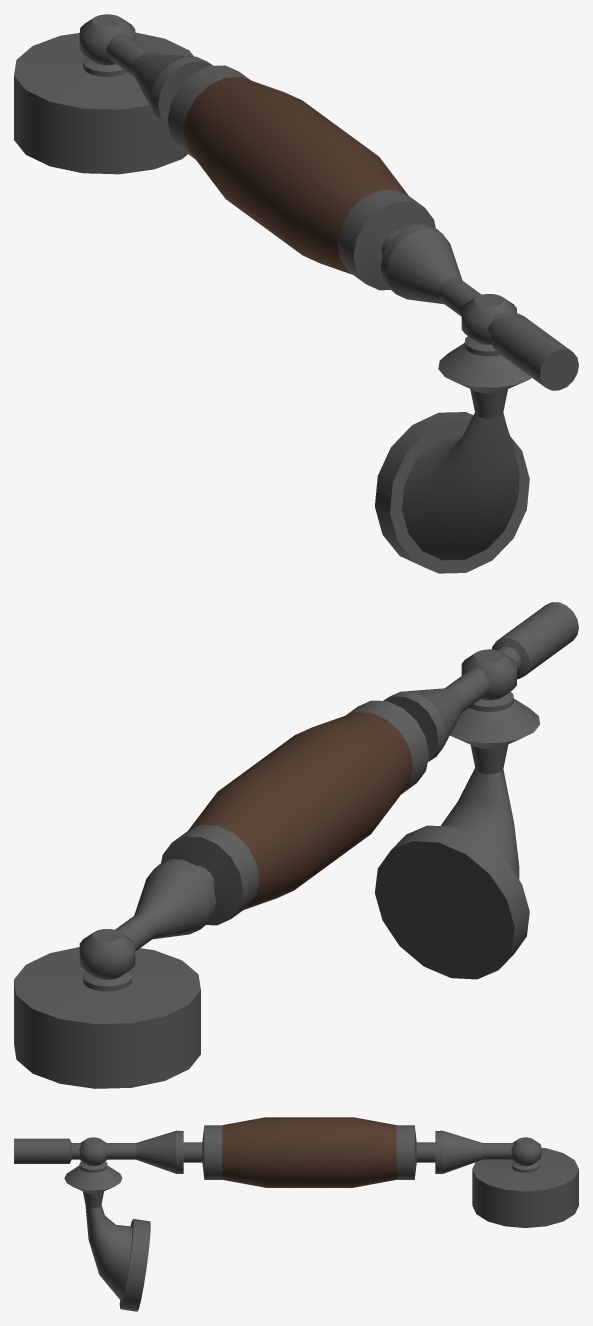
The model's file is S_TelephonePart1.fbx.
The picture shows the model from 3 angles, top to bottom: view 1: azimuth 30°, elevation 25°; view 2: azimuth 150°, elevation 25°; view 3: azimuth 270°, elevation 25°; orthographic projection. The views are drawn at different scales.
Visible parts, largest first — view 1: S_Telephone.001; view 2: S_Telephone.001; view 3: S_Telephone.001.
Boxes of the visible parts, x1,y1,x2,y2 form: S_Telephone.001: (14, 14, 578, 573); S_Telephone.001: (14, 602, 578, 1088); S_Telephone.001: (14, 1117, 578, 1311).
Bounding box in the file's own units: 8.5 × 16.54 × 45.
